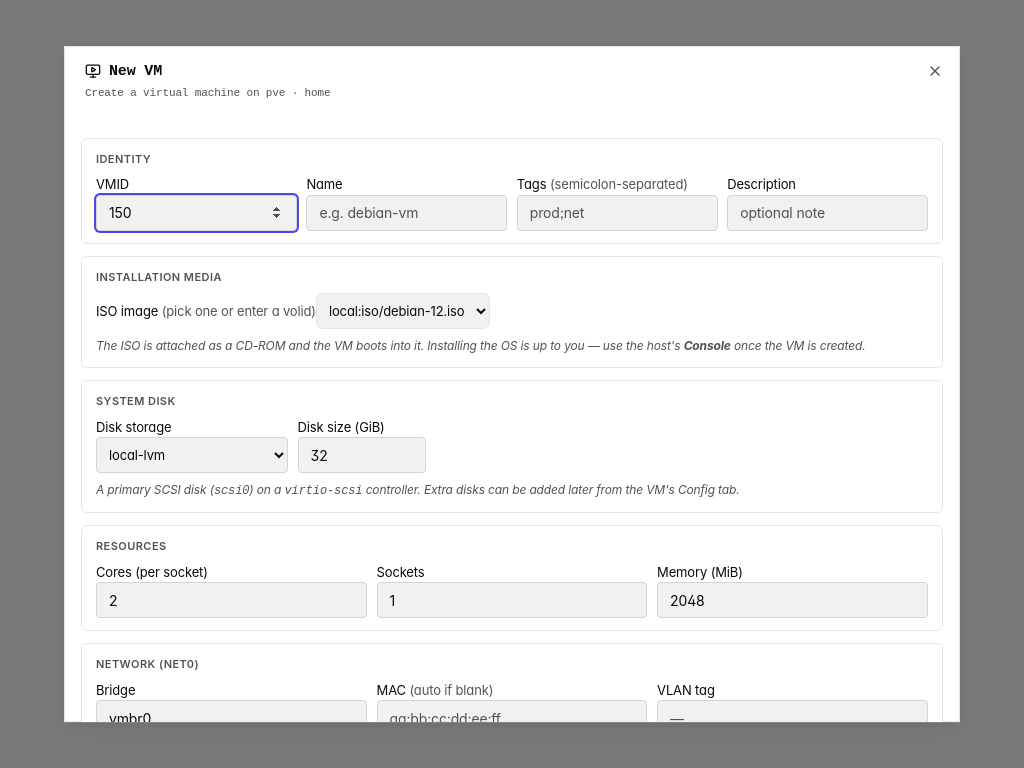
it: QemuCreateModal — V8.4 › blocks submit on a malformed MAC address
Expected: the number field showing "150" is shown, [96,195,297,231]
Type "zz:zz" into the field with placeholder "aa:bb:cc:dd:ee:ff" at (512, 718), box [376,700,647,736]
(page scrolled)
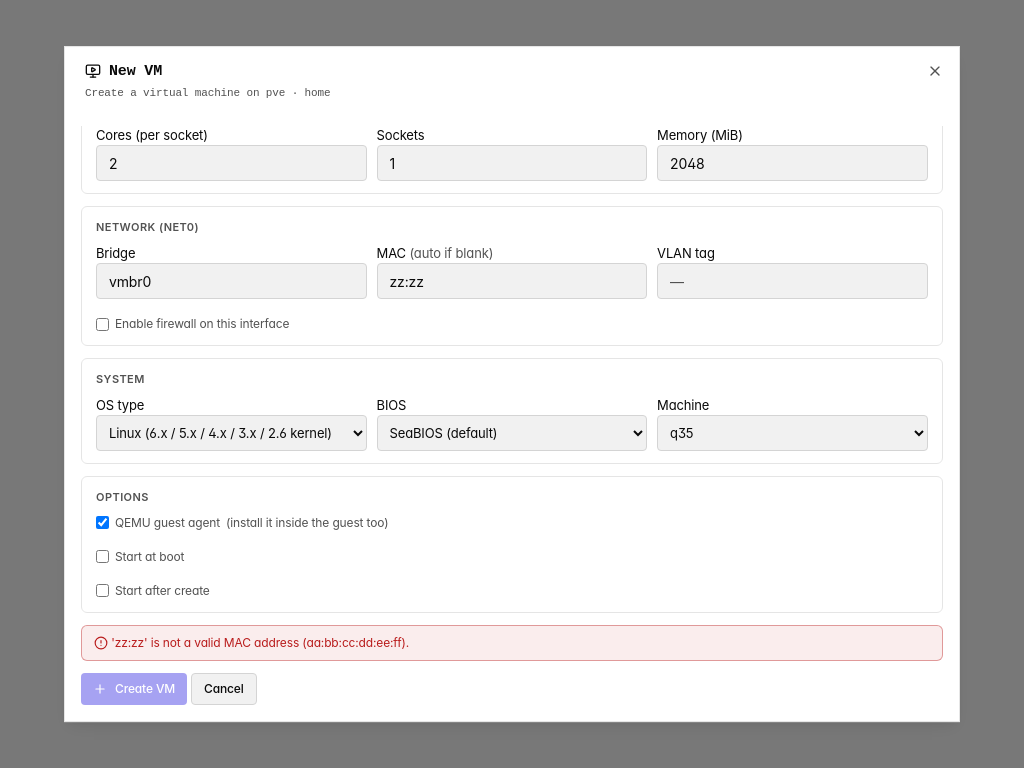
Now the button "Create VM" is disabled, box [81,673,187,705]
